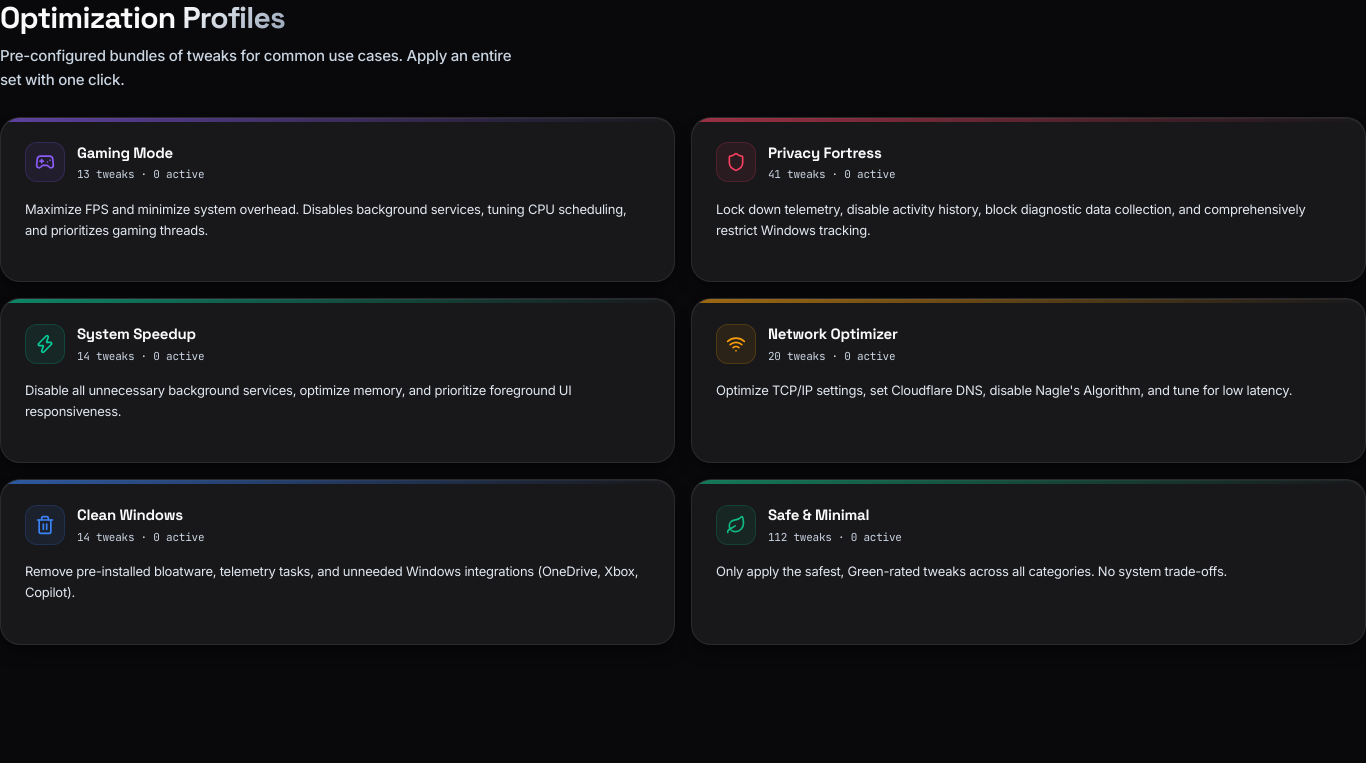
Test: ProfilesPage › clicking same profile again collapses it
What coordinates should you click on to do the following:
click the heading "Safe & Minimal"
I would click on:
 (819, 515)
Its box is [768,505,869,524].
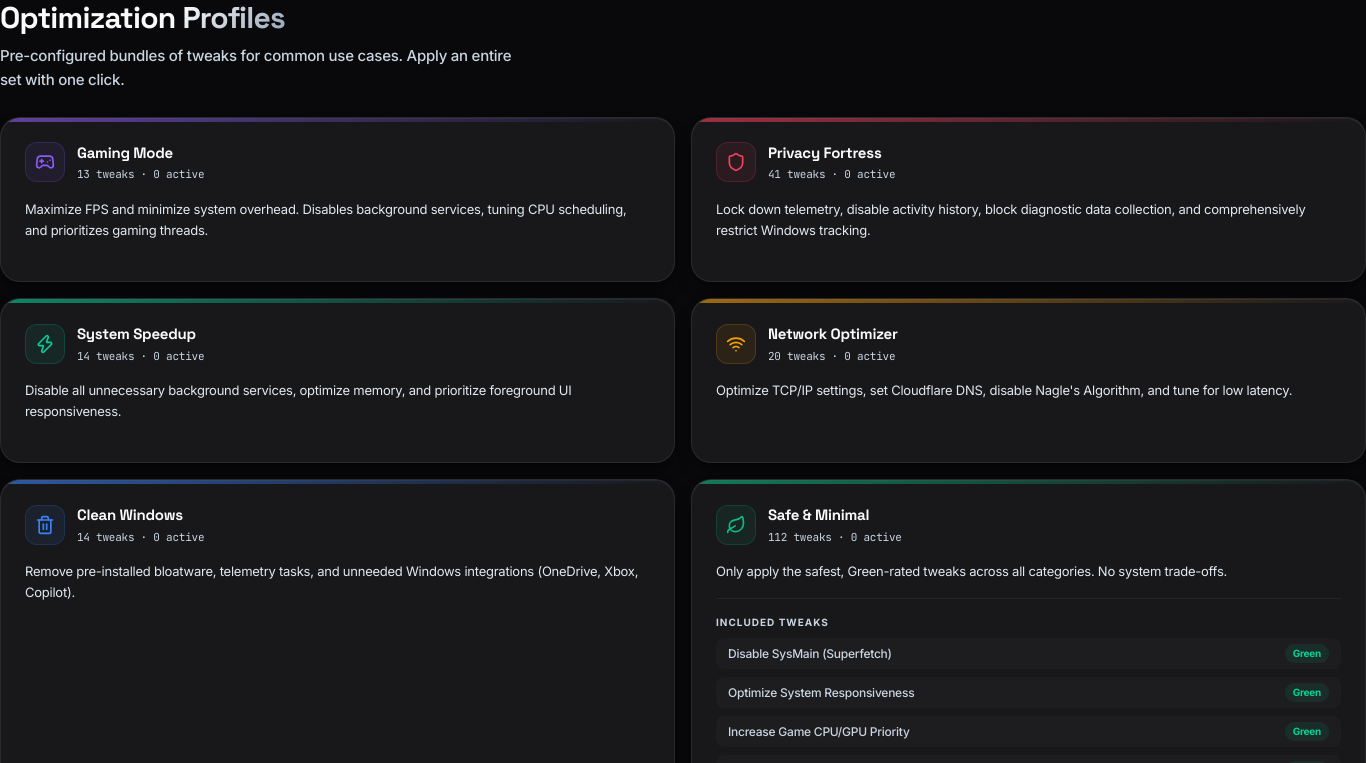
Now the text "Included Tweaks" is shown, box [716,616,829,628]
What coordinates should you click on to do the following:
click the heading "Safe & Minimal"
I would click on:
 (819, 515)
Its box is [768,505,869,524].
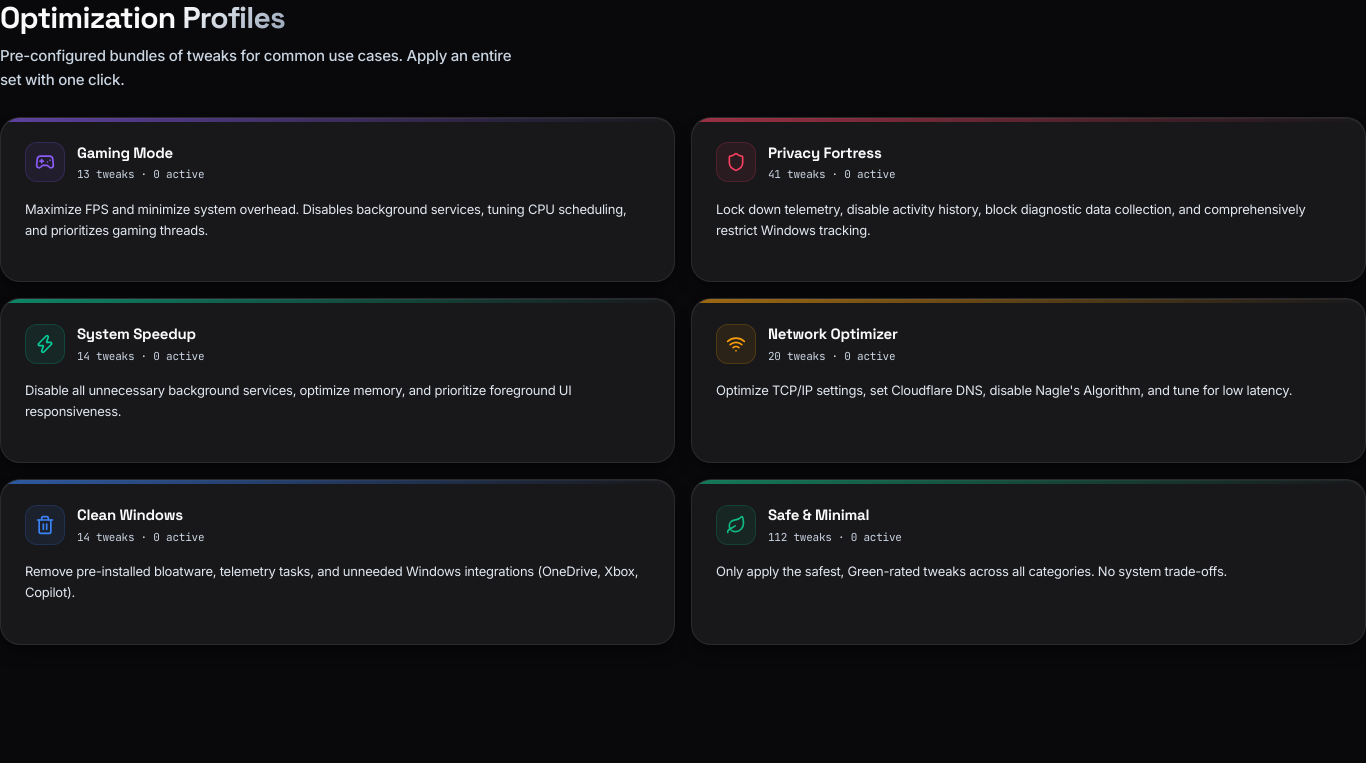
Now the text "Included Tweaks" is gone
